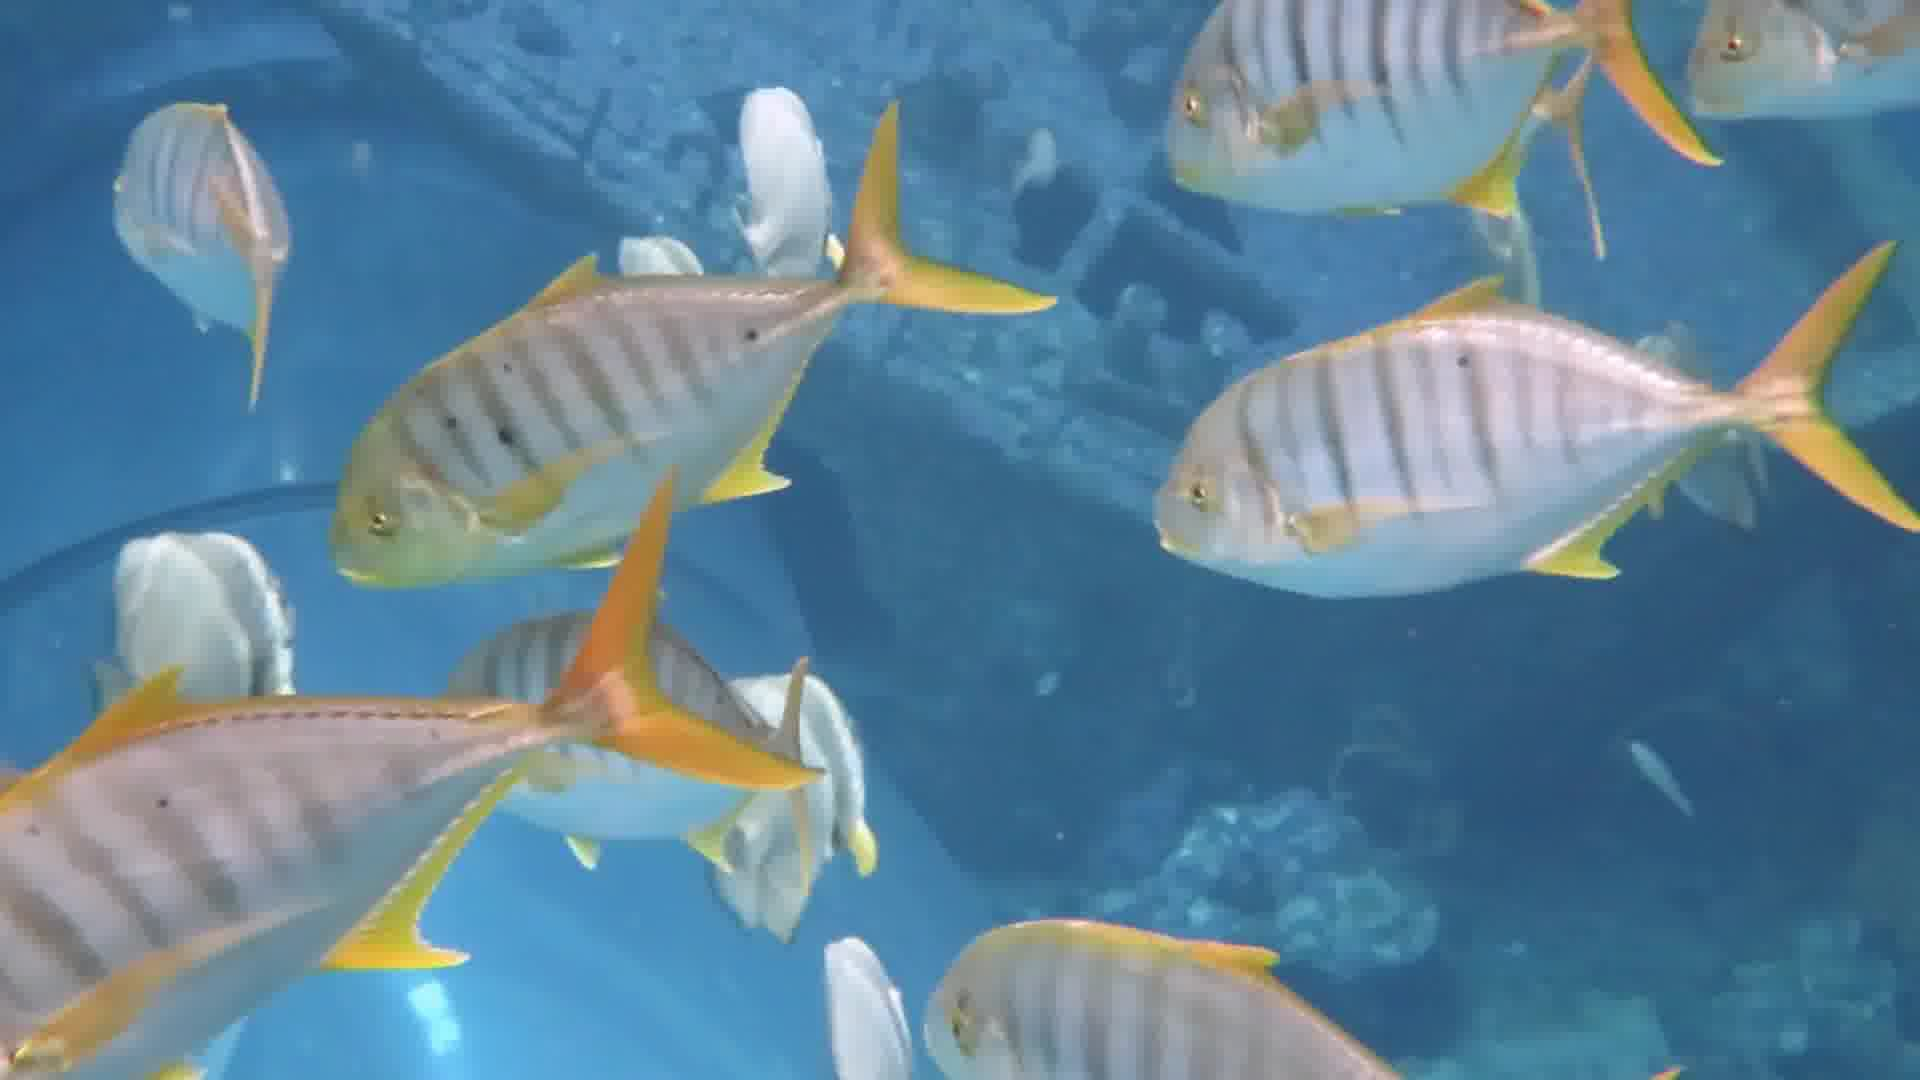Gnathanodon speciosus: (18, 597, 731, 1080), (344, 161, 938, 597), (1106, 284, 1851, 622), (1155, 1, 1625, 229)
